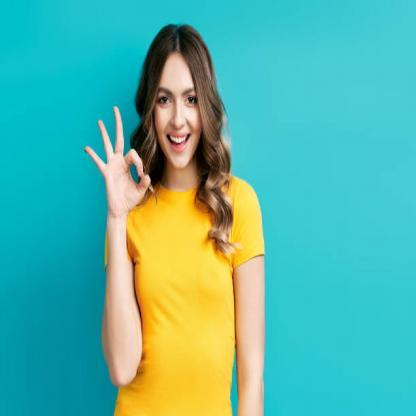ok: (82, 101, 152, 217)
